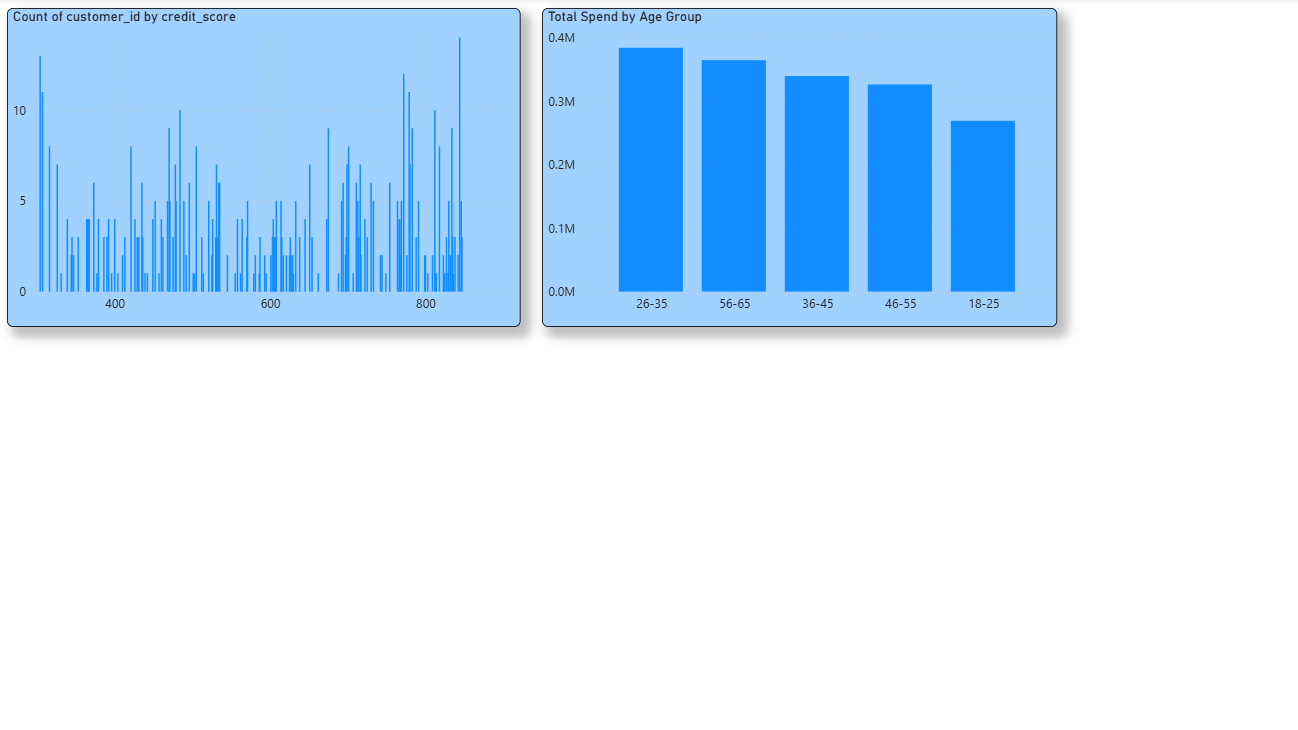

What the dashboard file says about the page in this screenshot:
{"tool":"powerbi","page":{"name":"Page 2","canvas":[1280,720],"ordinal":1},"visuals":[{"type":"clusteredColumnChart","fields":{"Category":["merged.credit_score"],"Y":["CountNonNull(merged.customer_id)"]},"box":[9.8,9.8,502.6,311.8],"z":0},{"type":"clusteredColumnChart","fields":{"Category":["merged.Age Group"],"Y":["merged.Total Spend"]},"box":[533.2,9.8,503.8,311.8],"z":1000}]}

Visuals, with their boxes in screenshot pixels (x1, y1, x2, y2), scaled from the page's 1280x720 canvas onto the 1298x730 screenshot:
clusteredColumnChart - merged.credit_score x CountNonNull(merged.customer_id): left=10, top=10, right=520, bottom=326
clusteredColumnChart - merged.Age Group x merged.Total Spend: left=541, top=10, right=1052, bottom=326
